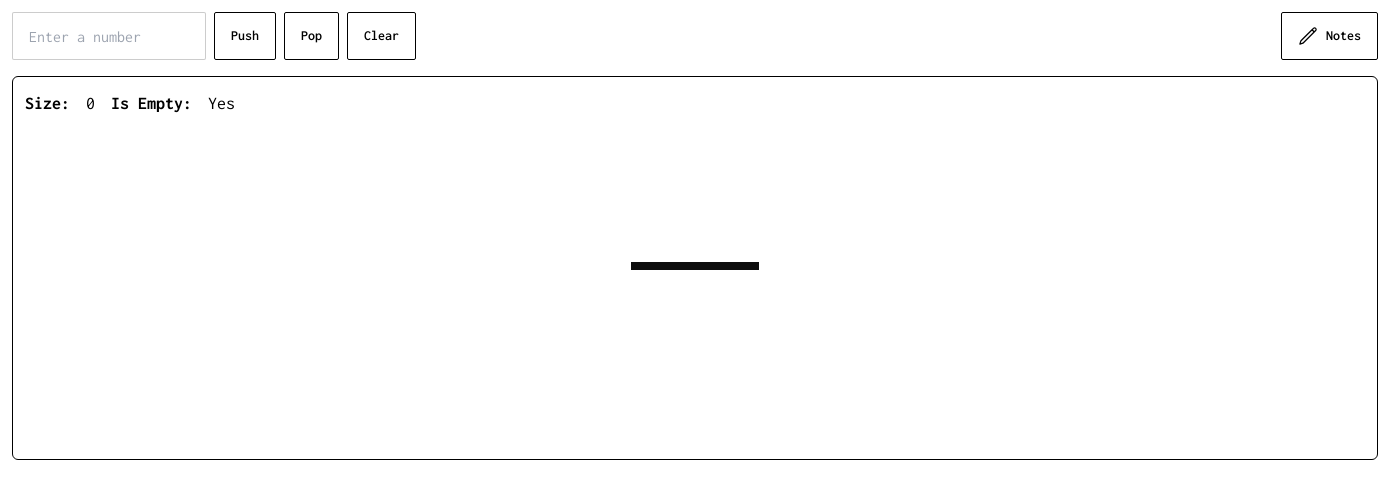
StackPG › should push value onto stack correctly when user clicks push
This screenshot has width=1378, height=477.
Step 1. Type "1" into the field with test id "num-input" → (109, 36), box [12,12,206,60]
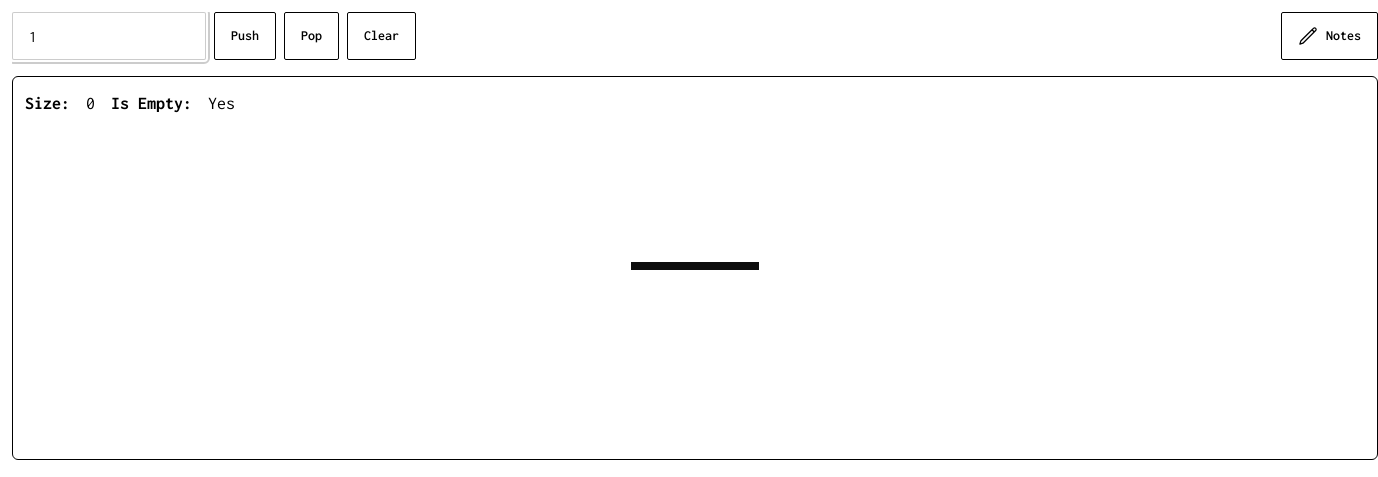
Step 2. Click the button "Push" → click(245, 36), box [214,12,276,60]
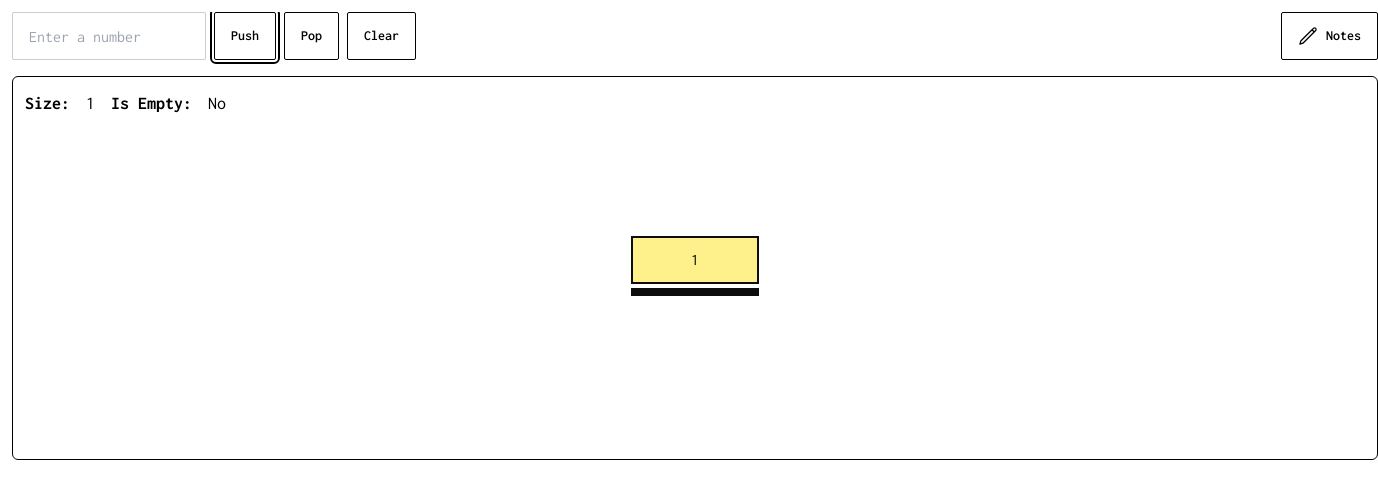
Result: the text with test id "size" reads "1" at [86,94,95,112]
Result: the text with test id "is-empty" reads "No" at [208,94,226,112]
